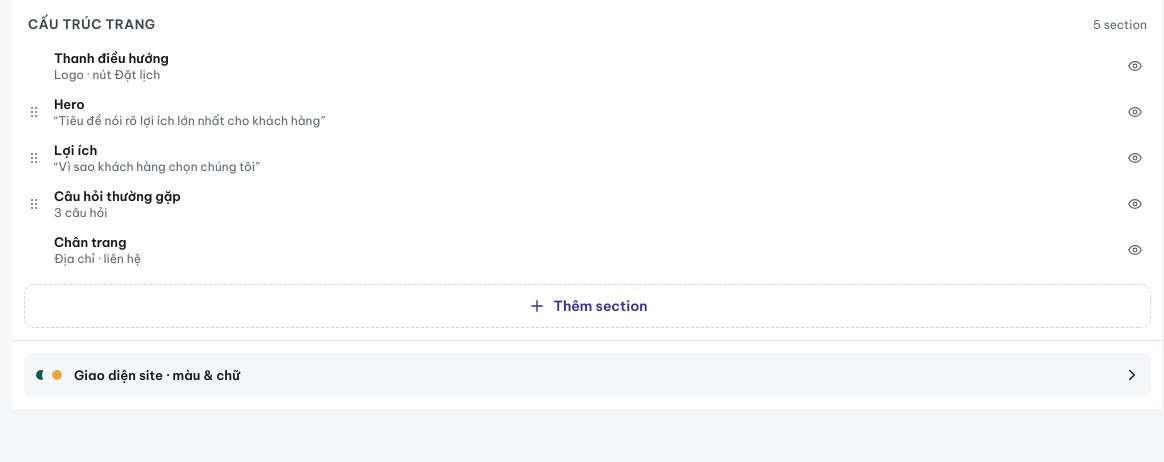
Test: StructurePanel › hides and shows a section for the device group being previewed
The image size is (1164, 462).
What coordinates should you click on to do the following:
click the button named "Ẩn hoặc hiện Lợi ích"
I would click on:
 (1135, 158)
Its box is [1119,142,1151,174].
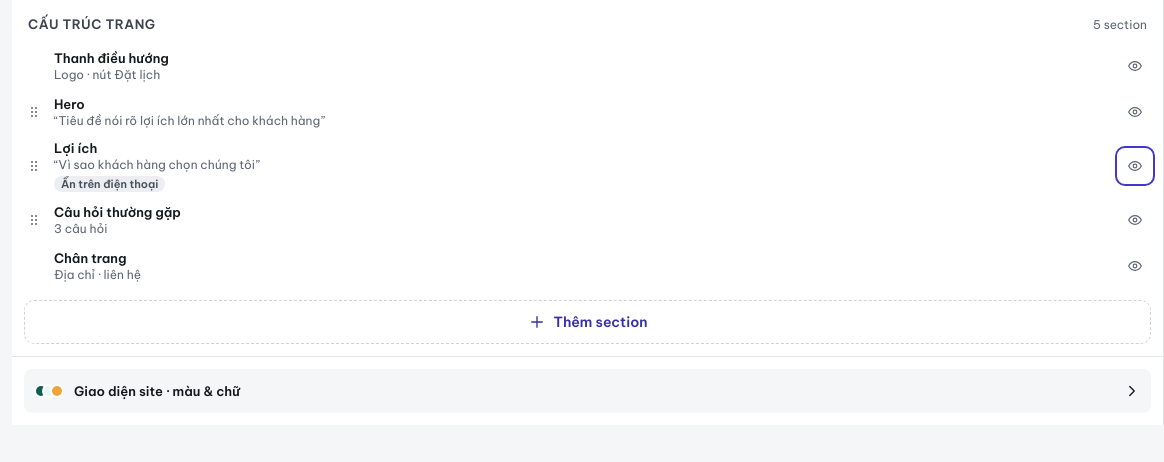
Now the text "Ẩn trên điện thoại" is shown, box [54,176,165,192]
What coordinates should you click on to do the following:
click the button named "Ẩn hoặc hiện Lợi ích"
I would click on:
 (1135, 166)
Its box is [1119,150,1151,182].
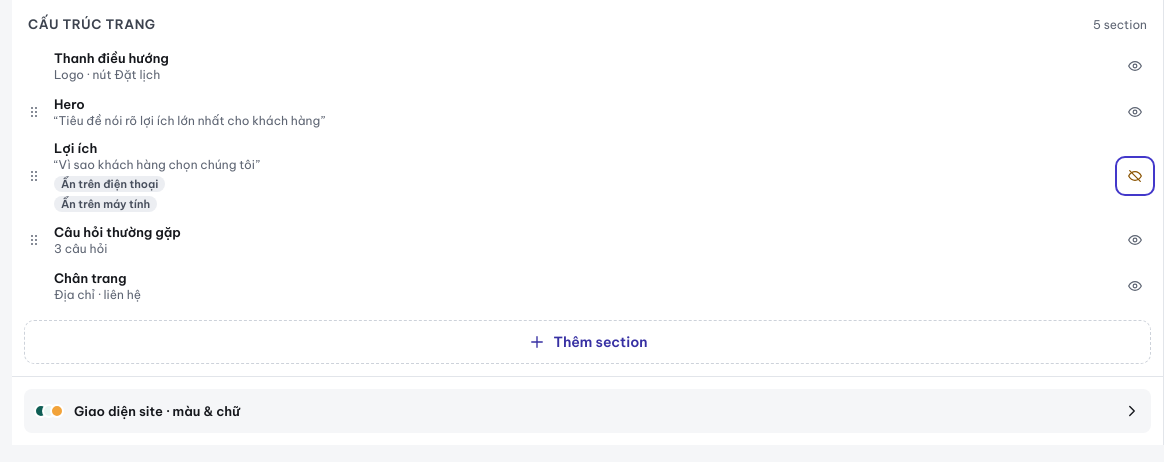
Now the text "Ẩn trên máy tính" is shown, box [54,196,157,212]
